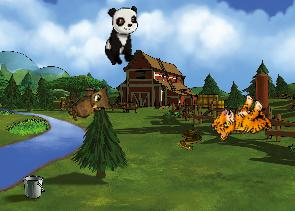owl: (65, 81, 119, 132)
panda: (104, 5, 139, 66)
tiger: (207, 87, 277, 156)
